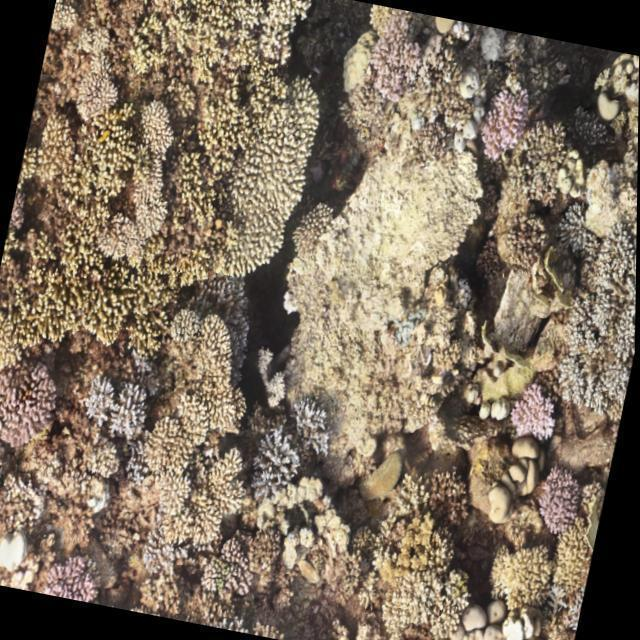Bleached Coral: (231, 396, 340, 516), (64, 366, 166, 448), (142, 505, 194, 594), (0, 500, 44, 584), (495, 591, 550, 640), (80, 479, 120, 530), (276, 285, 308, 325)
Healthy Coral: (27, 0, 321, 242), (375, 24, 430, 112), (0, 360, 57, 443), (479, 90, 537, 161), (543, 474, 589, 531)
